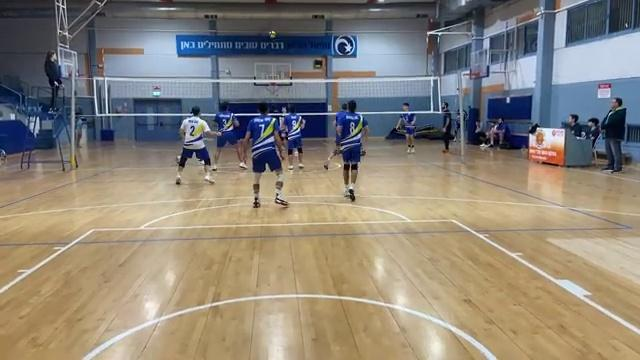ball: (267, 29, 277, 39)
